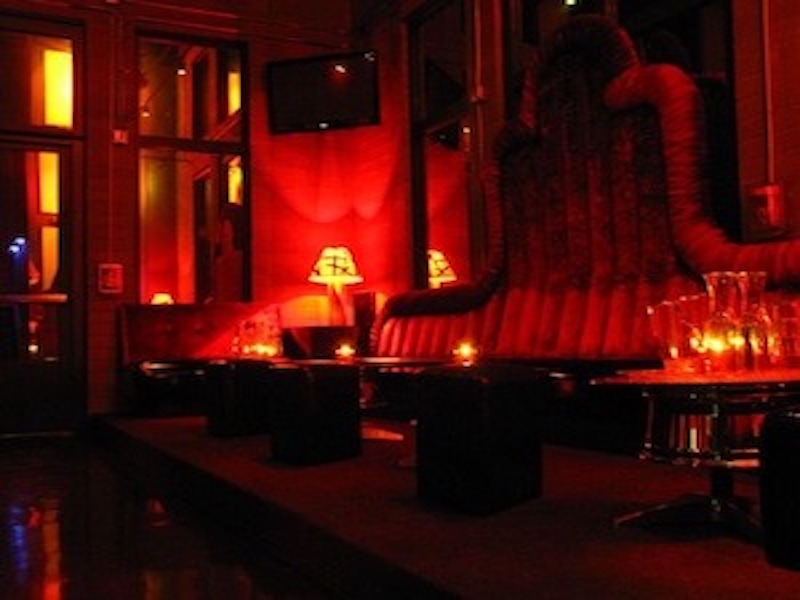fire: (224, 68, 252, 204)
